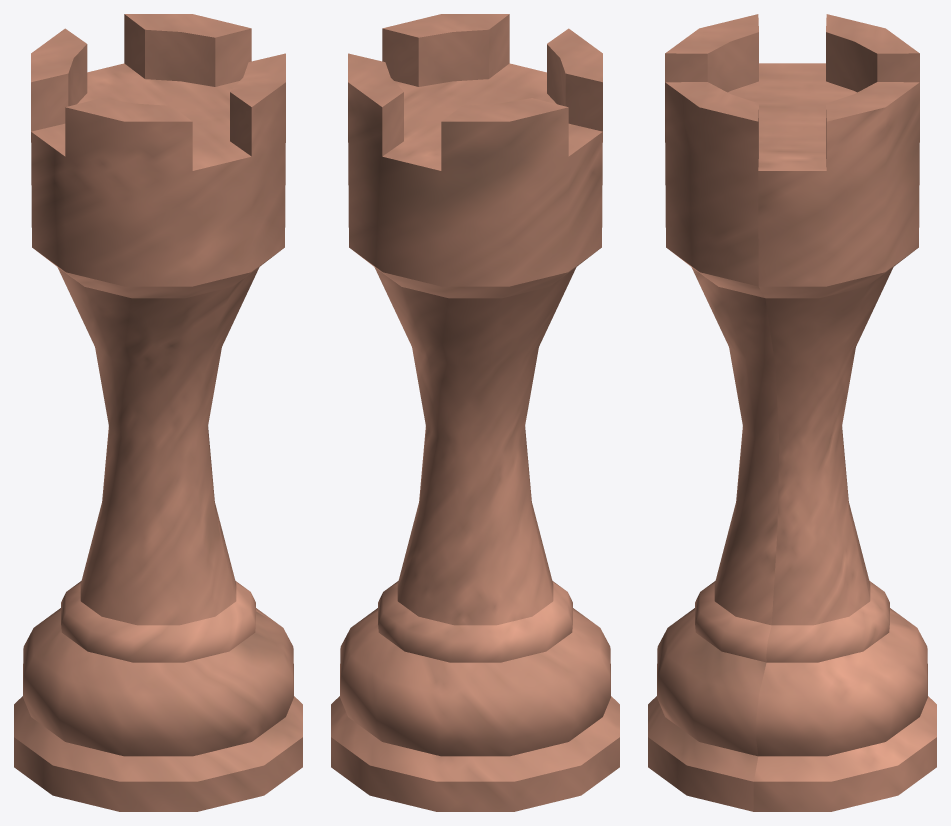
File: Chess_White_bishop.fbx
3 renders of one model, left to right at view 1: azimuth 30°, elevation 25°; view 2: azimuth 150°, elevation 25°; view 3: azimuth 270°, elevation 25°, orthographic.
Visible parts, largest first — view 1: Chess_pawn.006; view 2: Chess_pawn.006; view 3: Chess_pawn.006.
Boxes of the visible parts, box(x1,y1,x2,y2) form: Chess_pawn.006: box(14, 14, 302, 811); Chess_pawn.006: box(331, 14, 619, 811); Chess_pawn.006: box(648, 14, 936, 811).
Size of the model in its own units: 21.41 by 55.85 by 21.41.
